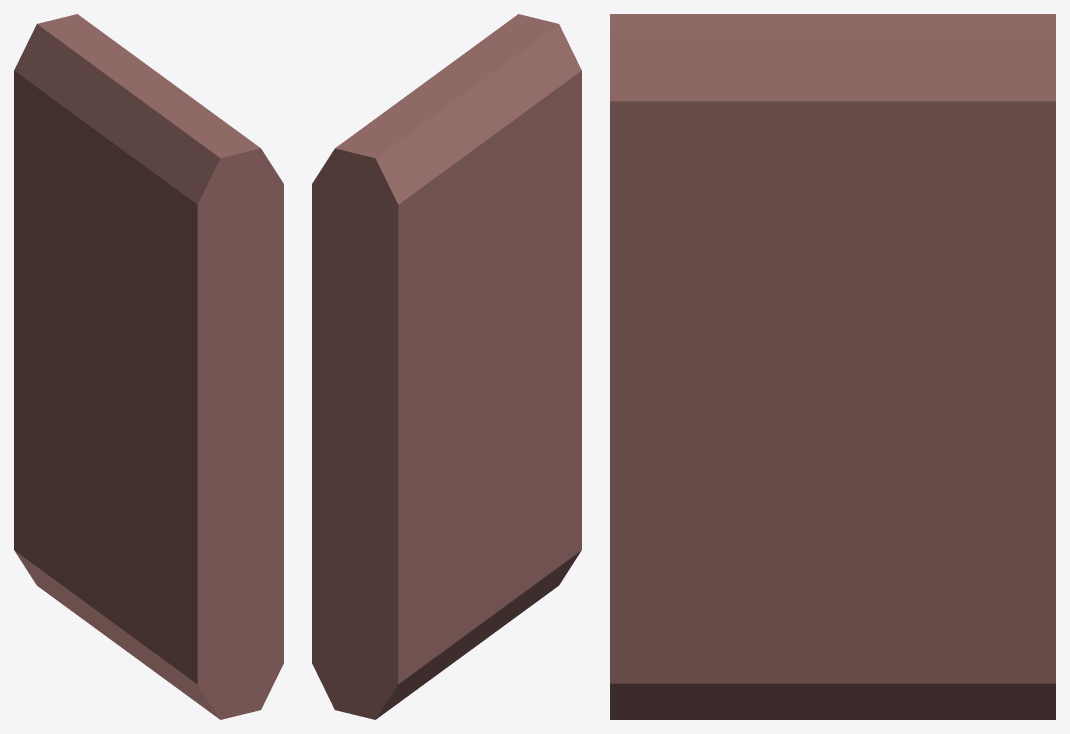
File: squash-wall.fbx
3 renders of one model, left to right at view 1: azimuth 30°, elevation 25°; view 2: azimuth 150°, elevation 25°; view 3: azimuth 270°, elevation 25°, orthographic. The views are drawn at different scales.
Parts seen in each view (by area): view 1: squash-wall; view 2: squash-wall; view 3: squash-wall.
Boxes of the visible parts, x1,y1,x2,y2 form: squash-wall: [14, 14, 283, 719]; squash-wall: [312, 14, 581, 719]; squash-wall: [610, 14, 1055, 719].
Size of the model in its own units: 54.23 by 338 by 200.
